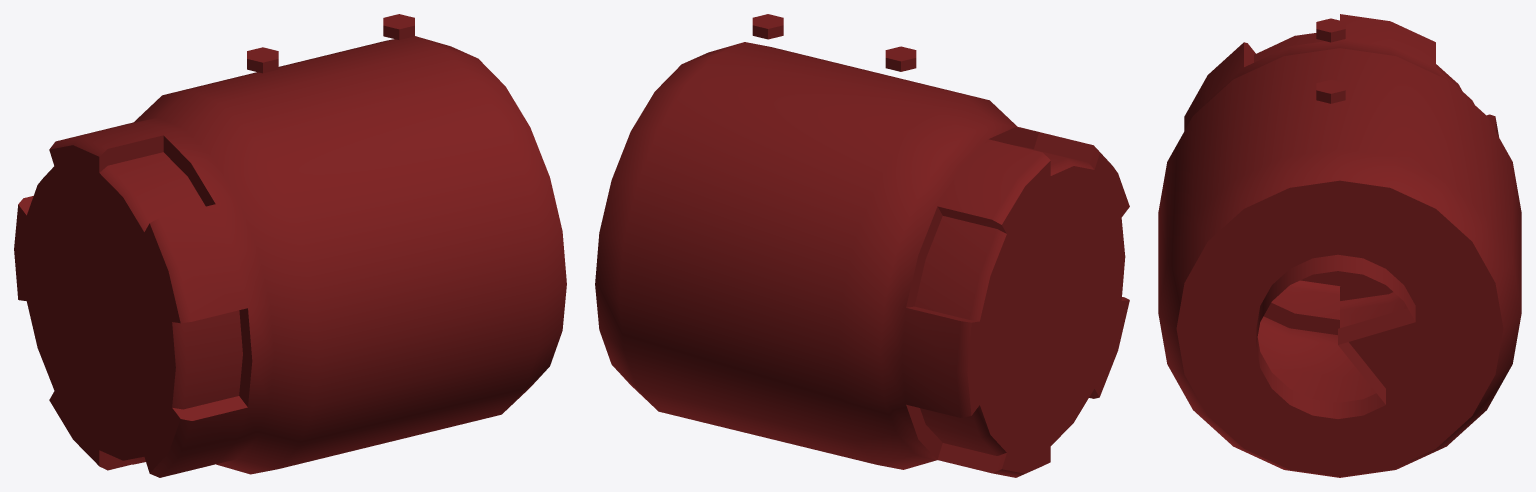
Rendered from Motor001.fbx.
3 views of the same model, side by side, from view 1: azimuth 30°, elevation 25°; view 2: azimuth 150°, elevation 25°; view 3: azimuth 270°, elevation 25° (orthographic). The views are drawn at different scales.
Visible parts, largest first — view 1: Motor001; view 2: Motor001; view 3: Motor001.
Boxes of the visible parts, bbox=[...] form: Motor001: bbox=[14, 14, 566, 477]; Motor001: bbox=[595, 14, 1129, 477]; Motor001: bbox=[1158, 14, 1521, 477].
Bounding box in the file's own units: 14.34 × 13.22 × 11.8.
